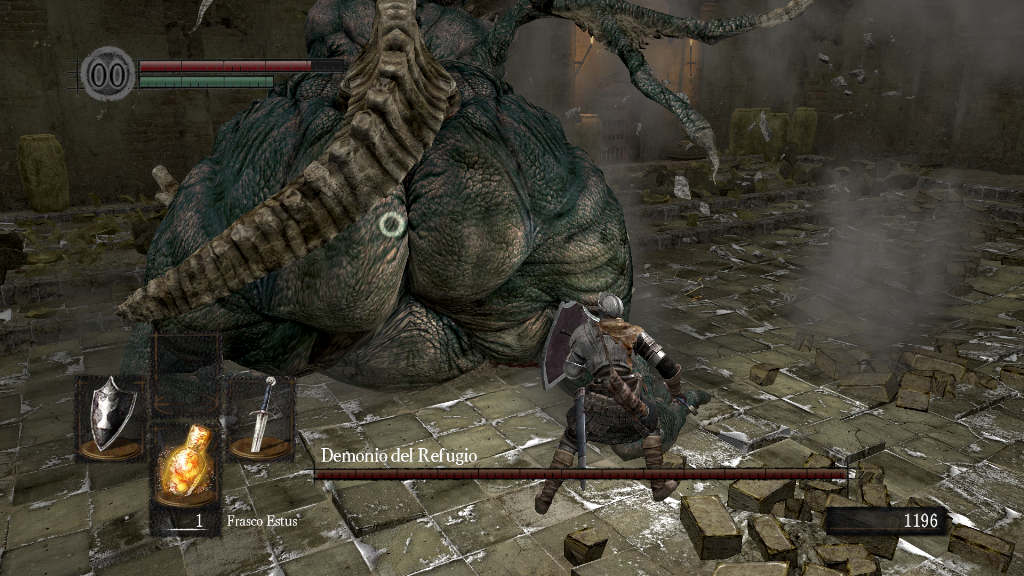asylumDemon: (116, 1, 631, 397)
bossHP: (314, 469, 847, 479)
health: (138, 58, 343, 71)
humanity: (80, 45, 136, 102)
player: (534, 290, 696, 513)
souls: (825, 506, 945, 536)
stamina: (138, 74, 274, 88)
